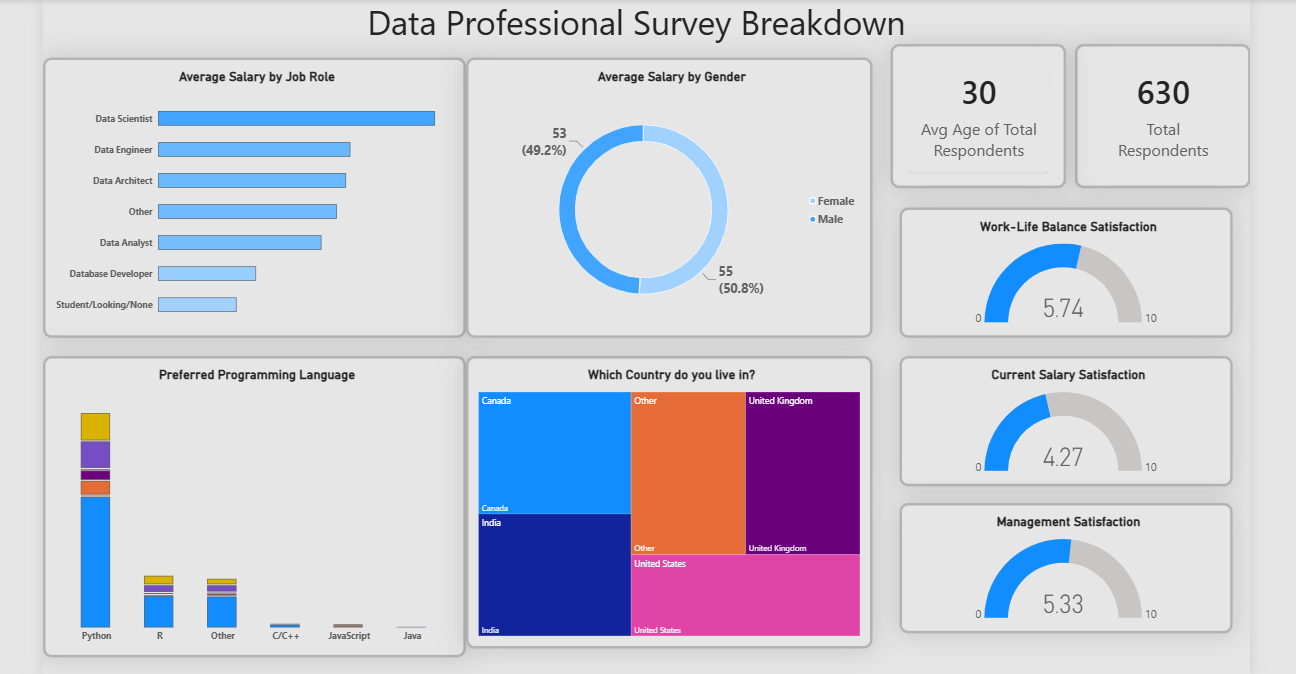

What the dashboard file says about the page in this screenshot:
{"tool":"powerbi","page":{"name":"Survey Breakdown","canvas":[1920,1080],"ordinal":0},"visuals":[{"type":"textbox","box":[10,0,280,280],"z":0},{"type":"textbox","box":[188.5,0,1510.3,140.8],"z":1000},{"type":"cardVisual","fields":{"Data":["CountNonNull(Data Professional Survey.Unique ID)"]},"box":[1641.5,71.6,279.2,229],"z":2000},{"type":"cardVisual","fields":{"Data":["Avg(Data Professional Survey.Q10 - Current Age)"]},"box":[1348,71.6,279.2,229],"z":3000},{"type":"clusteredBarChart","title":"Average Salary by Job Role","fields":{"Category":["Data Professional Survey.Q1 - Which Title Best Fits your Current Role?.1"],"Y":["Avg(Data Professional Survey.Average Salary)"]},"box":[0,93.1,672.8,446.2],"z":4000},{"type":"columnChart","title":"Preferred Programming Language","fields":{"Category":["Data Professional Survey.Q5 - Favorite Programming Language.1.1"],"Series":["Data Professional Survey.Q1 - Which Title Best Fits your Current Role?.1"],"Y":["CountNonNull(Data Professional Survey.Unique ID)"]},"box":[0,567.8,672.8,479.6],"z":4002},{"type":"treemap","title":"Which Country do you live in?","fields":{"Details":["Data Professional Survey.Q11 - Which Country do you live in?.1"],"Group":["Data Professional Survey.Q11 - Which Country do you live in?.1"],"Values":["Count(Data Professional Survey.Q11 - Which Country do you live in?.1)"]},"box":[672.8,567.8,646.6,465.3],"z":4003},{"type":"gauge","title":"Work-Life Balance Satisfaction","fields":{"MaxValue":["Max(Data Professional Survey.Q6 - How Happy are you in your Current Position with the following? (Work/Life Balance))"],"MinValue":["Min(Data Professional Survey.Q6 - How Happy are you in your Current Position with the following? (Work/Life Balance))"],"Y":["Avg(Data Professional Survey.Q6 - How Happy are you in your Current Position with the following? (Work/Life Balance))"]},"box":[1362.4,331.6,529.7,207.6],"z":4004},{"type":"gauge","title":"Current Salary Satisfaction","fields":{"MaxValue":["Max(Data Professional Survey.Q6 - How Happy are you in your Current Position with the following? (Salary))"],"MinValue":["Min(Data Professional Survey.Q6 - How Happy are you in your Current Position with the following? (Salary))"],"Y":["Avg(Data Professional Survey.Q6 - How Happy are you in your Current Position with the following? (Salary))"]},"box":[1362.4,567.8,529.7,207.6],"z":4005},{"type":"donutChart","title":"Average Salary by Gender","fields":{"Category":["Data Professional Survey.Q9 - Male/Female?"],"Y":["Avg(Data Professional Survey.Average Salary)"]},"box":[672.8,93.1,646.6,446.2],"z":4006},{"type":"gauge","title":"Management Satisfaction","fields":{"MaxValue":["Max(Data Professional Survey.Q6 - How Happy are you in your Current Position with the following? (Management))1"],"MinValue":["Min(Data Professional Survey.Q6 - How Happy are you in your Current Position with the following? (Management))"],"Y":["Avg(Data Professional Survey.Q6 - How Happy are you in your Current Position with the following? (Management))"]},"box":[1362.4,801.7,529.7,207.6],"z":4007}]}

Visuals, with their boxes on the page's 1920x1080 design canvas (x1, y1, x2, y2). These are canvas units, not pixel positions in the 1296x674 screenshot, which may show the page scaled, cropped or inside an application window:
textbox: [10,0,290,280]
textbox: [188,0,1699,141]
cardVisual - CountNonNull(Data Professional Survey.Unique ID): [1642,72,1921,301]
cardVisual - Avg(Data Professional Survey.Q10 - Current Age): [1348,72,1627,301]
"Average Salary by Job Role" clusteredBarChart: [0,93,673,539]
"Preferred Programming Language" columnChart: [0,568,673,1047]
"Which Country do you live in?" treemap: [673,568,1319,1033]
"Work-Life Balance Satisfaction" gauge: [1362,332,1892,539]
"Current Salary Satisfaction" gauge: [1362,568,1892,775]
"Average Salary by Gender" donutChart: [673,93,1319,539]
"Management Satisfaction" gauge: [1362,802,1892,1009]
